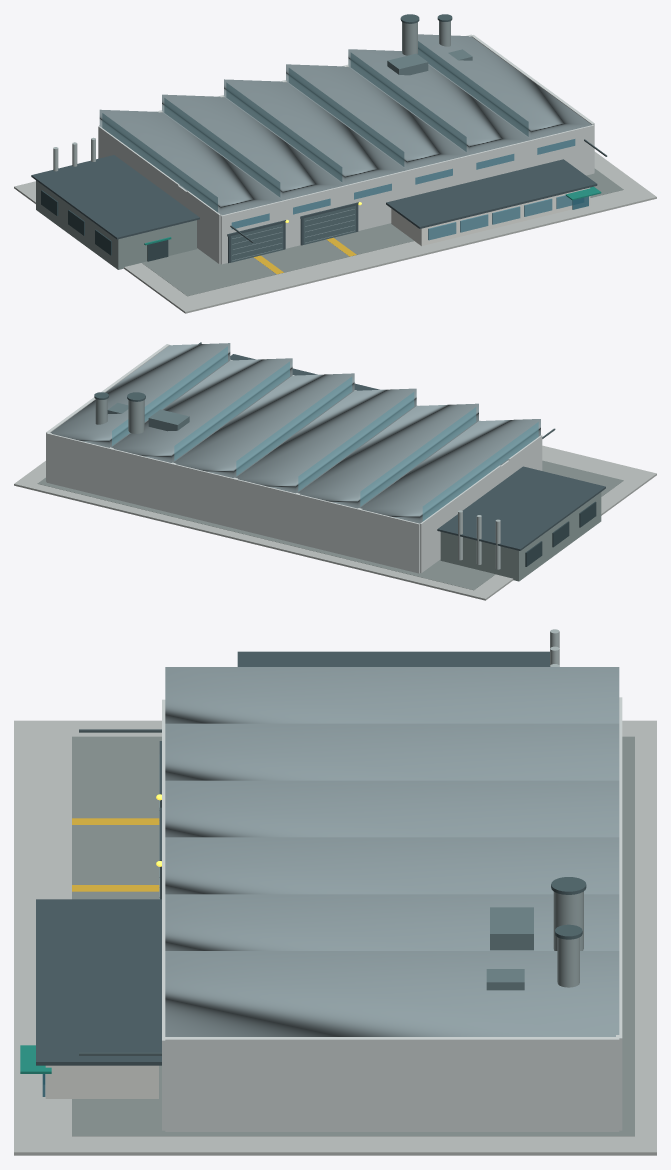
The model's file is factory-a.glb.
3 renders of one model, top to bottom at view 1: azimuth 30°, elevation 25°; view 2: azimuth 150°, elevation 25°; view 3: azimuth 270°, elevation 25°, orthographic. The views are drawn at different scales.
Visible parts, largest first — view 1: factory-a-foundation, factory-a-front-upper-wall, factory-a-sawtooth-roof-3, factory-a-sawtooth-roof-2, factory-a-sawtooth-roof-4, factory-a-sawtooth-roof-1, factory-a-sawtooth-roof-6, factory-a-sawtooth-roof-5, factory-a-annex-roof, factory-a-interior-floor, factory-a-office-roof, factory-a-office (+17 smaller); view 2: factory-a-rear-wall, factory-a-sawtooth-roof-4, factory-a-sawtooth-roof-3, factory-a-sawtooth-roof-2, factory-a-sawtooth-roof-1, factory-a-sawtooth-roof-5, factory-a-annex-roof, factory-a-foundation, factory-a-sawtooth-roof-6, factory-a-interior-floor, factory-a-left-wall-rear, factory-a-utility-annex-rear-wall (+11 smaller); view 3: factory-a-right-wall, factory-a-foundation, factory-a-sawtooth-roof-6, factory-a-sawtooth-roof-2, factory-a-sawtooth-roof-3, factory-a-sawtooth-roof-1, factory-a-sawtooth-roof-4, factory-a-interior-floor, factory-a-sawtooth-roof-5, factory-a-office-roof, factory-a-annex-roof, factory-a-office (+6 smaller).
Boxes of the visible parts, <box> form: factory-a-foundation: <box>14,151,656,313</box>; factory-a-front-upper-wall: <box>220,125,594,237</box>; factory-a-sawtooth-roof-3: <box>224,79,406,185</box>; factory-a-sawtooth-roof-2: <box>162,94,344,200</box>; factory-a-sawtooth-roof-4: <box>286,64,468,170</box>; factory-a-sawtooth-roof-1: <box>99,109,282,215</box>; factory-a-sawtooth-roof-6: <box>418,34,592,139</box>; factory-a-sawtooth-roof-5: <box>348,49,530,154</box>; factory-a-annex-roof: <box>31,155,199,239</box>; factory-a-interior-floor: <box>142,168,623,296</box>; factory-a-office-roof: <box>386,159,597,228</box>; factory-a-office: <box>391,187,590,246</box>; factory-a-rear-wall: <box>46,432,419,573</box>; factory-a-sawtooth-roof-4: <box>174,373,354,477</box>; factory-a-sawtooth-roof-3: <box>236,388,416,493</box>; factory-a-sawtooth-roof-2: <box>298,403,478,508</box>; factory-a-sawtooth-roof-1: <box>360,419,540,523</box>; factory-a-sawtooth-roof-5: <box>112,358,292,462</box>; factory-a-annex-roof: <box>437,466,605,550</box>; factory-a-foundation: <box>14,445,656,600</box>; factory-a-sawtooth-roof-6: <box>50,343,230,447</box>; factory-a-interior-floor: <box>37,460,623,590</box>; factory-a-left-wall-rear: <box>420,465,501,573</box>; factory-a-utility-annex-rear-wall: <box>440,532,520,581</box>; factory-a-right-wall: <box>165,1037,619,1131</box>; factory-a-foundation: <box>14,720,656,1155</box>; factory-a-sawtooth-roof-6: <box>165,951,619,1036</box>; factory-a-sawtooth-roof-2: <box>165,723,619,780</box>; factory-a-sawtooth-roof-3: <box>165,780,619,837</box>; factory-a-sawtooth-roof-1: <box>165,667,619,723</box>; factory-a-sawtooth-roof-4: <box>165,837,619,894</box>; factory-a-interior-floor: <box>72,736,634,1136</box>; factory-a-sawtooth-roof-5: <box>165,894,619,950</box>; factory-a-office-roof: <box>36,899,161,1065</box>; factory-a-annex-roof: <box>237,651,549,666</box>; factory-a-office: <box>45,1065,158,1098</box>.
Size of what is drawn, in the model's own units: 462 by 88.8 by 286.
